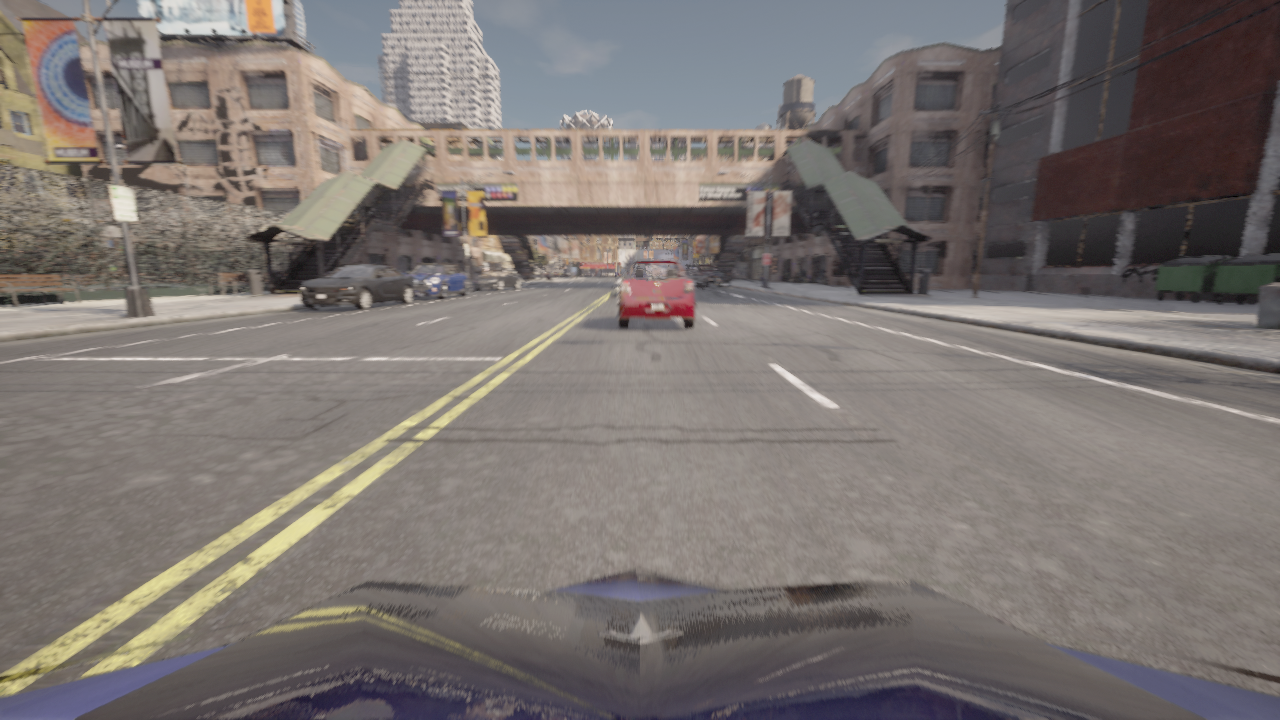cyclist: (0, 569, 1279, 719), (617, 259, 695, 328), (301, 264, 415, 309), (407, 262, 469, 298), (473, 268, 520, 290), (684, 269, 704, 290), (703, 272, 723, 285), (694, 265, 714, 274), (717, 272, 729, 287), (544, 272, 558, 276), (760, 274, 765, 284), (545, 272, 550, 280), (623, 272, 627, 278), (561, 273, 569, 276), (615, 272, 617, 276), (621, 273, 623, 276), (618, 274, 619, 276)
